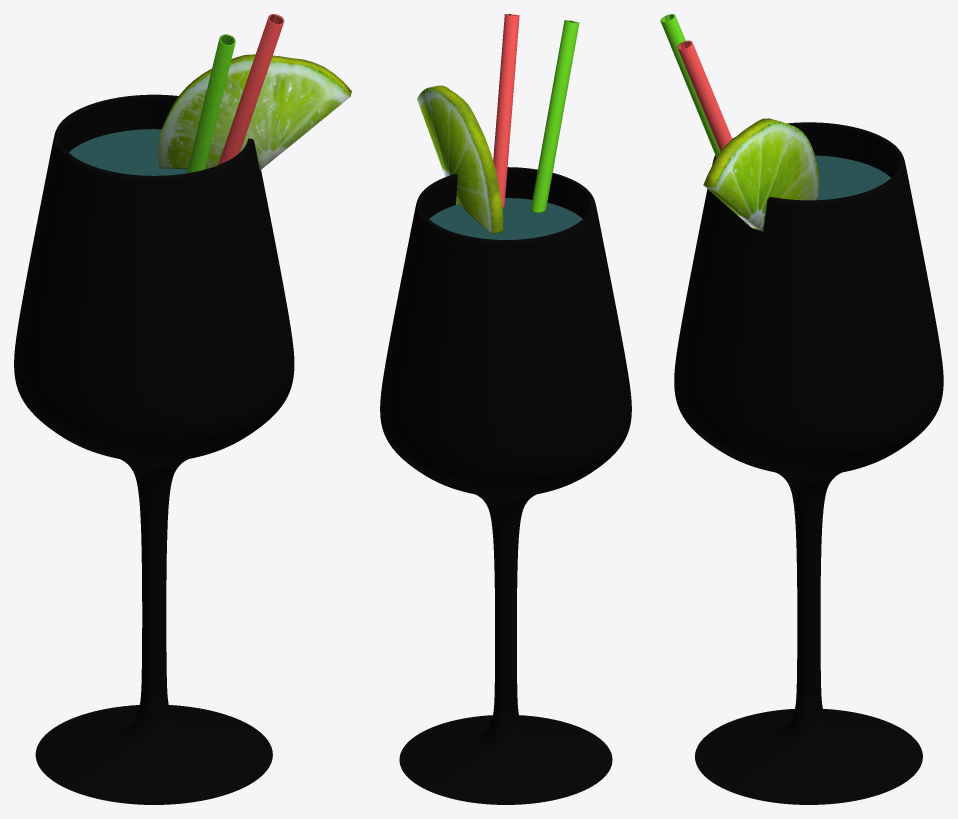
Rendered from summer_drink.glb.
The picture shows the model from 3 angles, left to right: view 1: azimuth 30°, elevation 25°; view 2: azimuth 150°, elevation 25°; view 3: azimuth 270°, elevation 25°; orthographic projection. The views are drawn at different scales.
Parts seen in each view (by area): view 1: glass, Cylinder.002, Circle, cocktail, Cylinder.001, Cylinder; view 2: glass, Cylinder.002, Circle, cocktail, Cylinder, Cylinder.001; view 3: glass, Cylinder.002, Circle, cocktail, Cylinder.001, Cylinder.
Part boxes in pixels (x1,y1,x2,y2): glass: (14, 94, 294, 804); Cylinder.002: (158, 54, 351, 170); Circle: (68, 128, 205, 175); cocktail: (69, 129, 187, 175); Cylinder.001: (218, 14, 284, 164); Cylinder: (187, 34, 235, 173); glass: (380, 167, 631, 804); Cylinder.002: (417, 85, 503, 233); Circle: (429, 197, 582, 239); cocktail: (429, 198, 582, 239); Cylinder: (531, 20, 579, 212); Cylinder.001: (493, 14, 519, 207); glass: (674, 122, 943, 804); Cylinder.002: (703, 118, 819, 231); Circle: (815, 155, 890, 200); cocktail: (815, 155, 890, 200); Cylinder.001: (677, 40, 732, 151); Cylinder: (660, 14, 719, 157).
Size of the model in its own units: 0.1537 by 0.421 by 0.1455.
6 materials, 1 textured.
